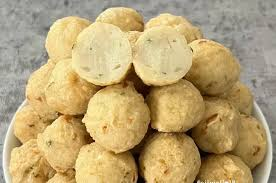Pempek adaan: (83, 84, 153, 154), (71, 19, 133, 90), (134, 25, 193, 85), (184, 38, 243, 94), (138, 133, 201, 183), (36, 117, 89, 174), (147, 81, 203, 133), (74, 140, 140, 183), (195, 97, 241, 154), (44, 65, 90, 116), (8, 141, 59, 183), (45, 15, 90, 62), (26, 64, 58, 118), (237, 113, 267, 170), (94, 2, 146, 33), (199, 154, 256, 182), (11, 102, 45, 143)
